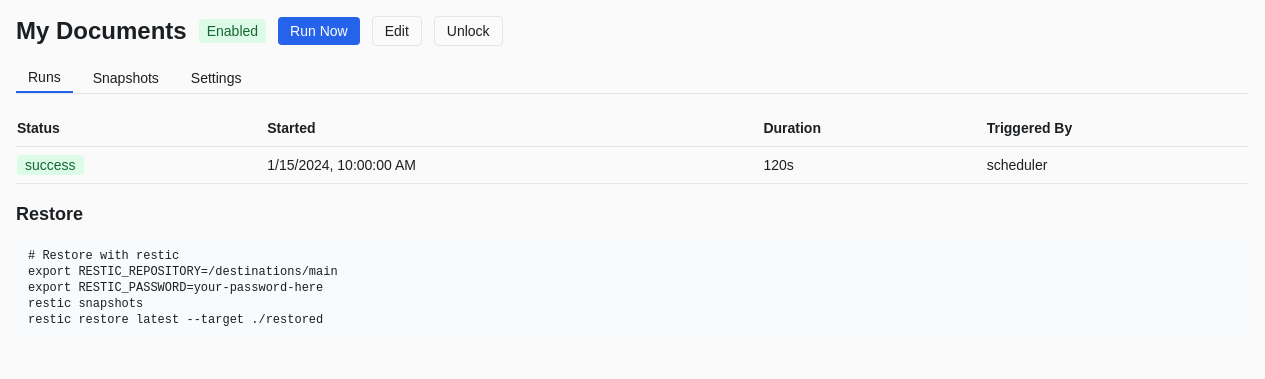
it: JobDetail › unlock output › shows unlock output after successful unlock
Click the button "Unlock" at point(468, 31), box top-left (434, 16), bottom-right (503, 46)
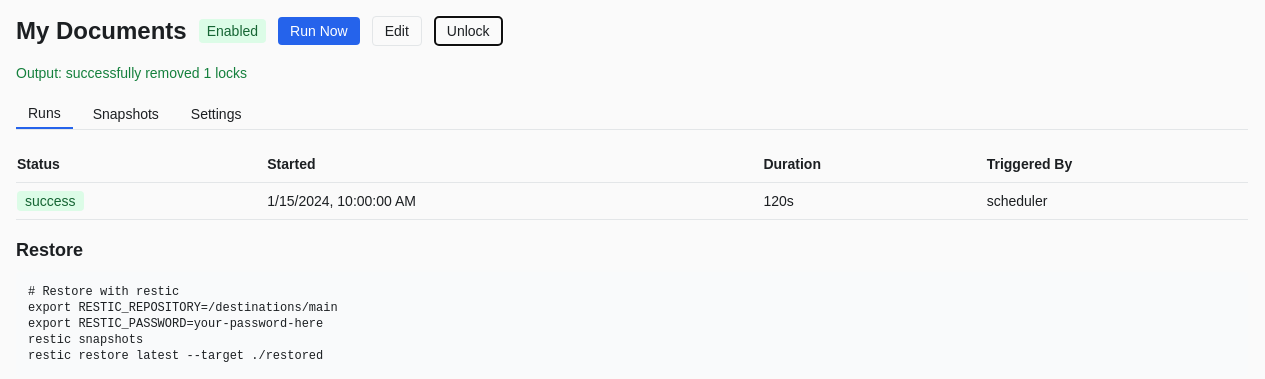
Check: the text "Output: successfully removed 1 locks" is shown, box top-left (16, 65), bottom-right (247, 81)
